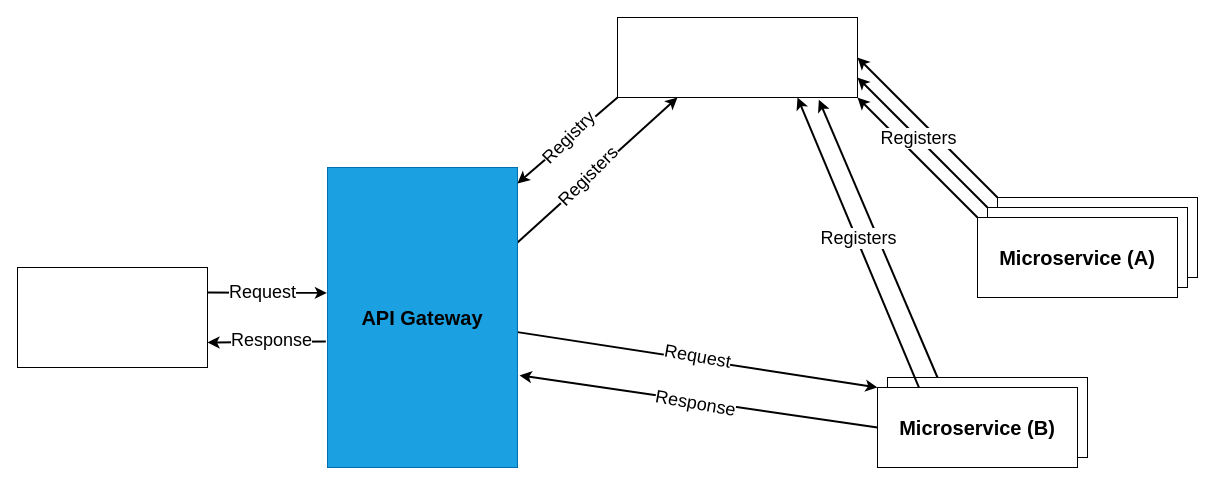
Some shapes in this 1215 by 485 pixel diagram are drawn without their labels. The box of each missing label's shape, as (x1, y1, x2, y2) in pixels:
Service Registry (Netflix Eureka): (616, 16, 858, 98)
Web / Mobile Client: (16, 266, 208, 368)
